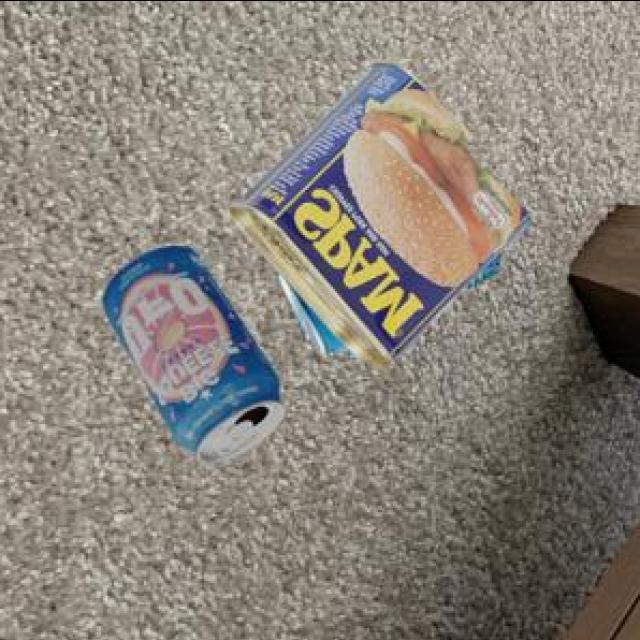logam: (233, 61, 536, 373), (106, 248, 289, 465), (289, 253, 506, 355)
